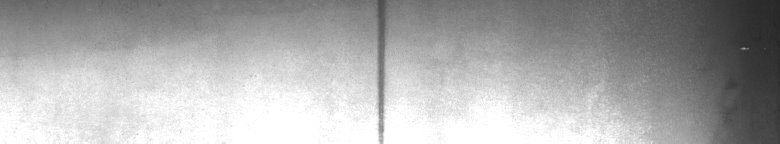hd: (370, 4, 392, 136)
